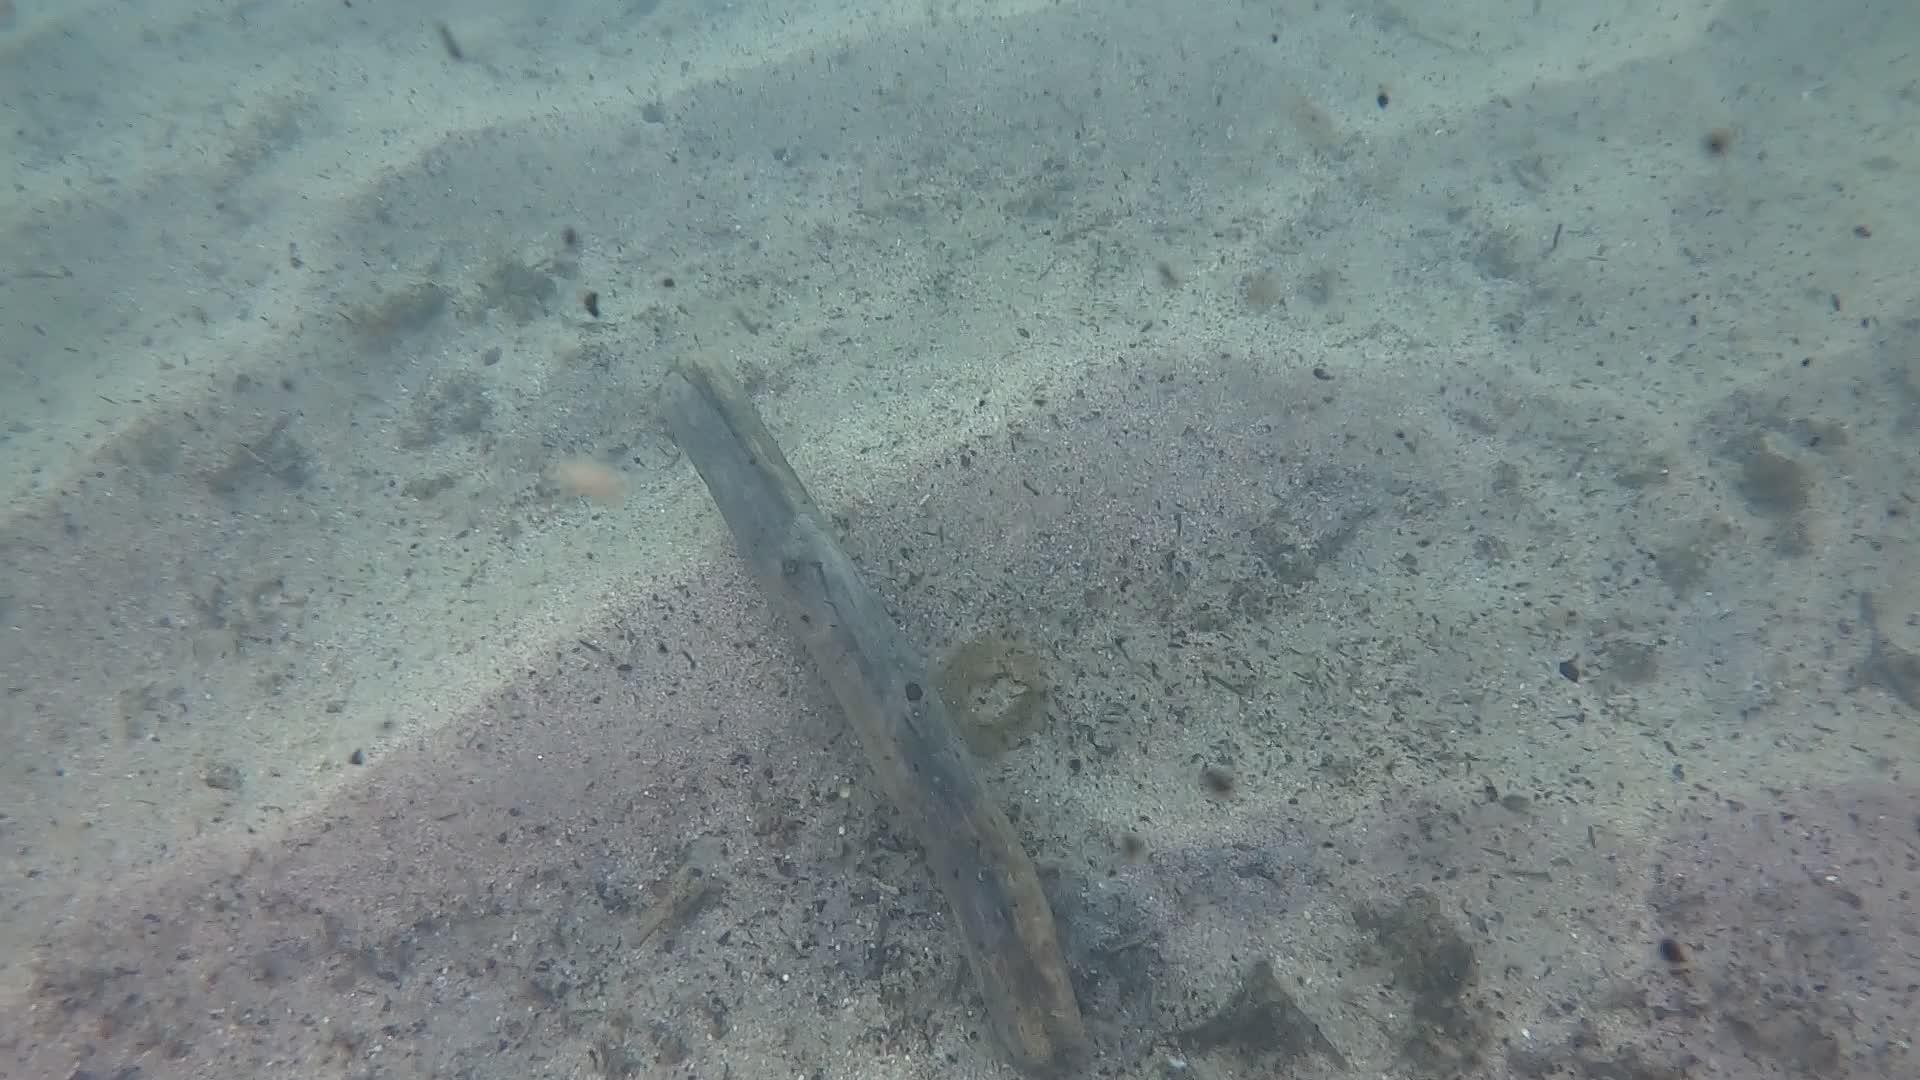wood: (653, 353, 1095, 1080)
